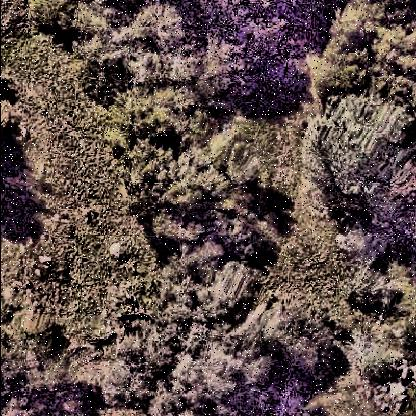tree-top: (106, 261, 282, 416), (300, 101, 414, 229), (74, 2, 182, 114), (321, 1, 416, 119), (1, 316, 102, 416), (131, 125, 227, 228), (148, 44, 230, 135), (273, 303, 341, 401)
